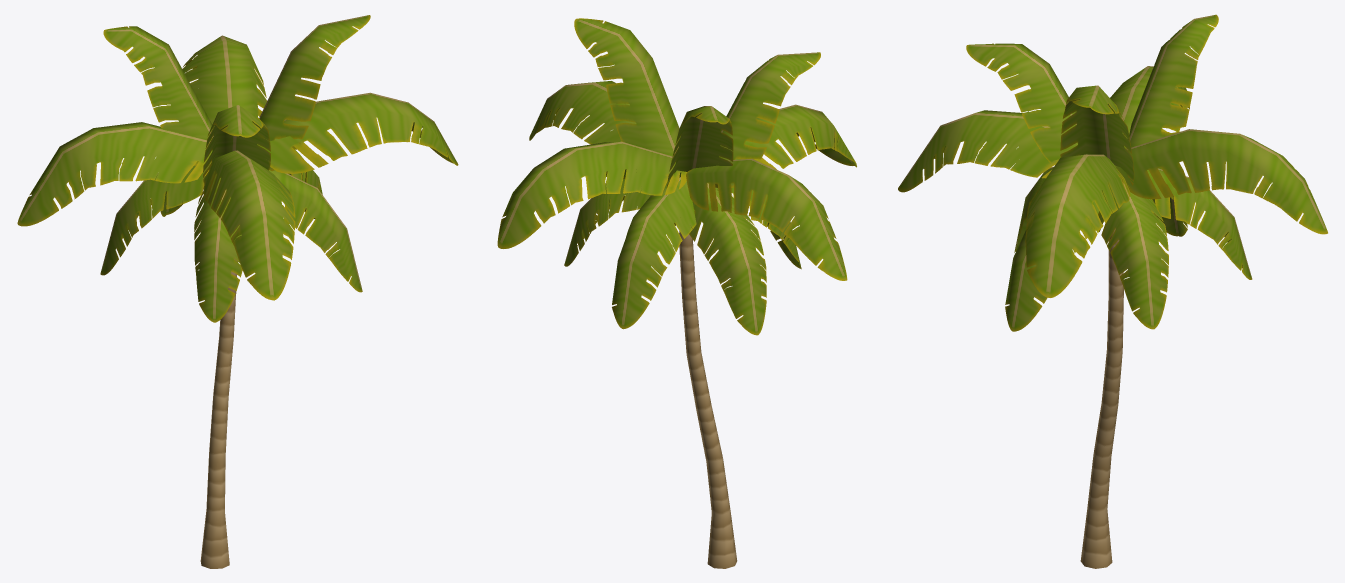
The model's file is SWS_DemoPalmTree.fbx.
3 renders of one model, left to right at view 1: azimuth 30°, elevation 25°; view 2: azimuth 150°, elevation 25°; view 3: azimuth 270°, elevation 25°, orthographic. The views are drawn at different scales.
Visible parts, largest first — view 1: SWS_DemoPalmTree; view 2: SWS_DemoPalmTree; view 3: SWS_DemoPalmTree.
Part boxes in pixels (bbox=[...]): SWS_DemoPalmTree: bbox=[17, 15, 458, 568]; SWS_DemoPalmTree: bbox=[497, 18, 856, 568]; SWS_DemoPalmTree: bbox=[898, 14, 1327, 568].
Bounding box in the file's own units: 21.05 × 26.78 × 19.89.
Materials: 2 (2 with a texture image).
